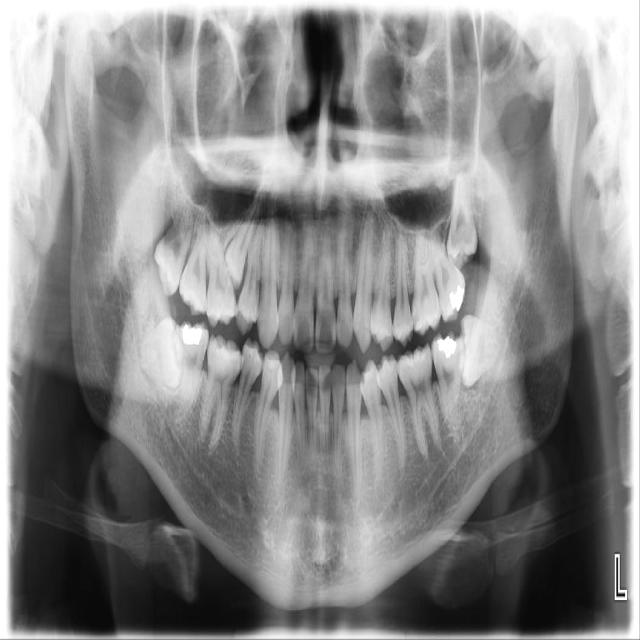Caries: (163, 220, 180, 252)
Filling: (437, 335, 455, 358), (183, 323, 202, 344), (450, 286, 465, 311)
impacted tooth: (225, 170, 265, 280), (133, 316, 185, 386), (460, 310, 509, 383), (445, 155, 478, 260)
